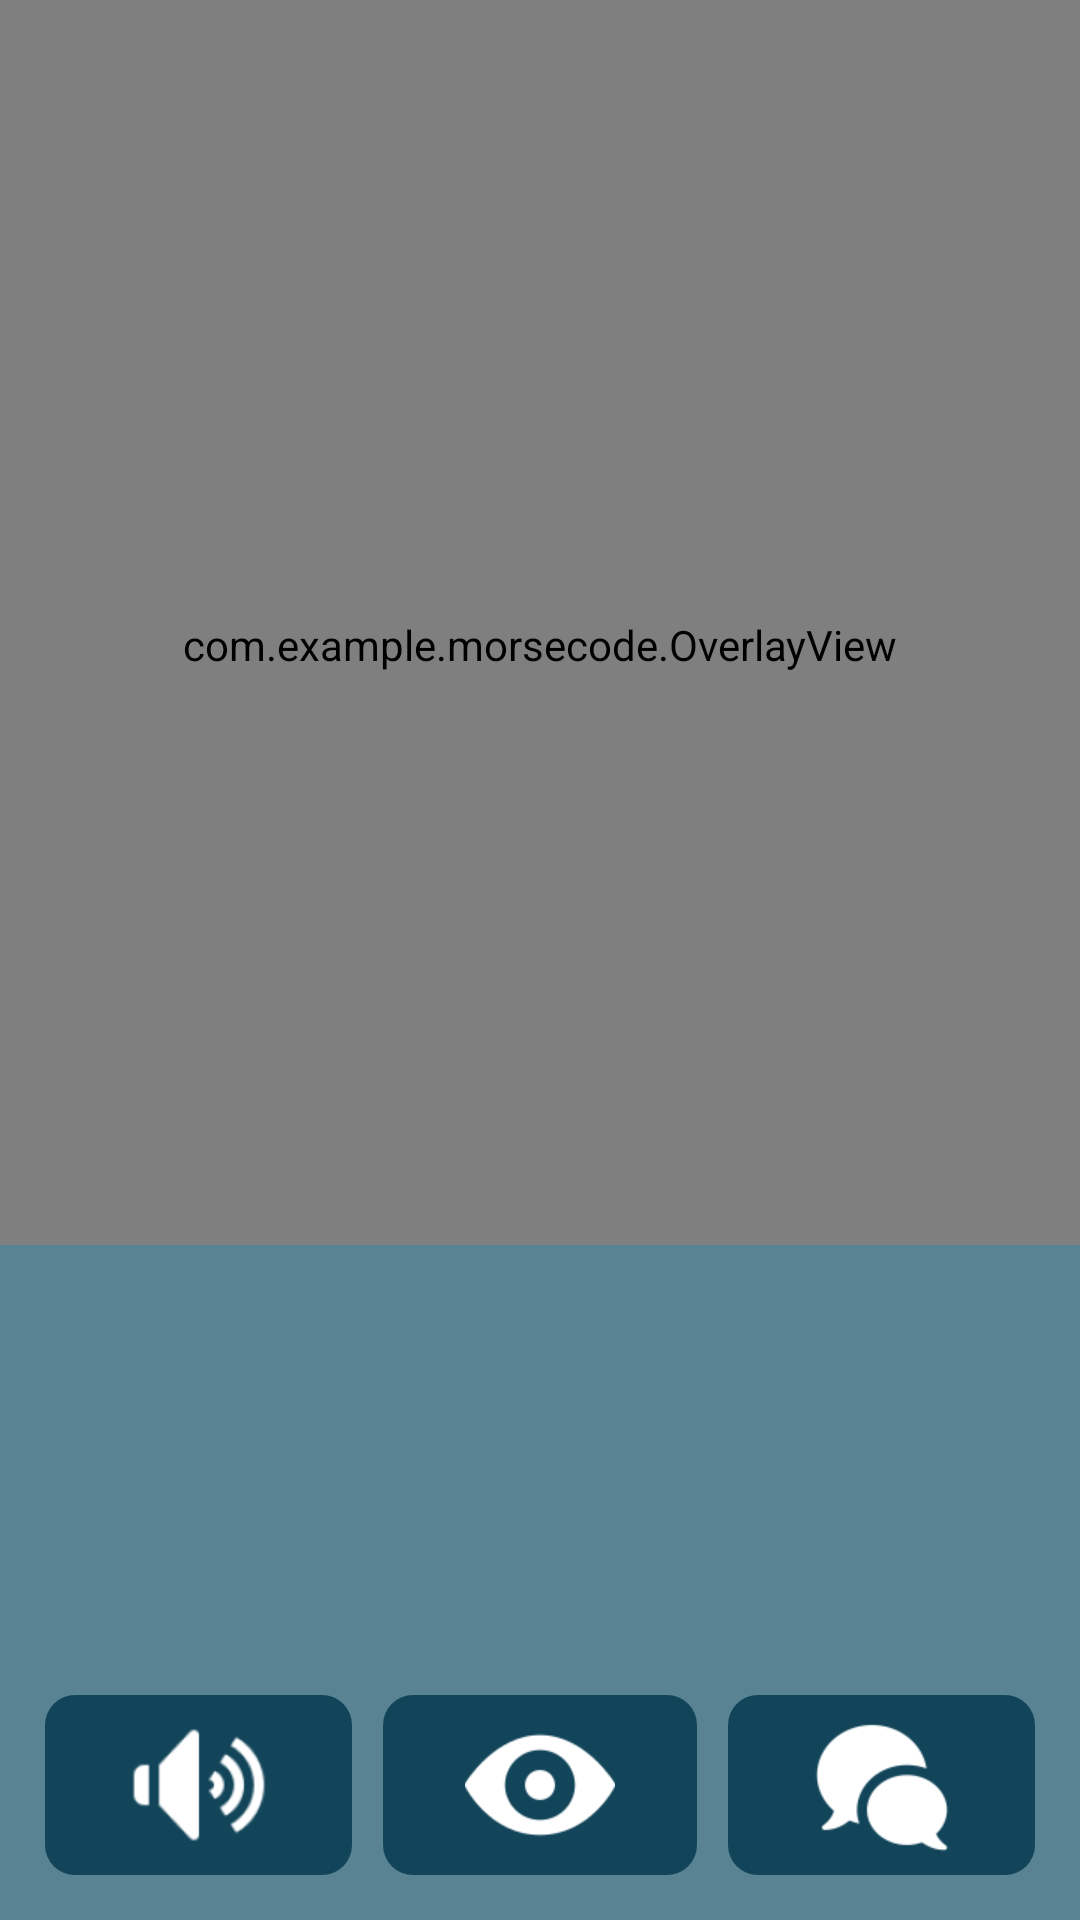

Where to tap for icons on this 1080 x 1920 app screen, as (x=x, y=y):
rec act chat: (x=881, y=1785)
rec act eyes: (x=540, y=1785)
rec act speaker: (x=198, y=1785)
